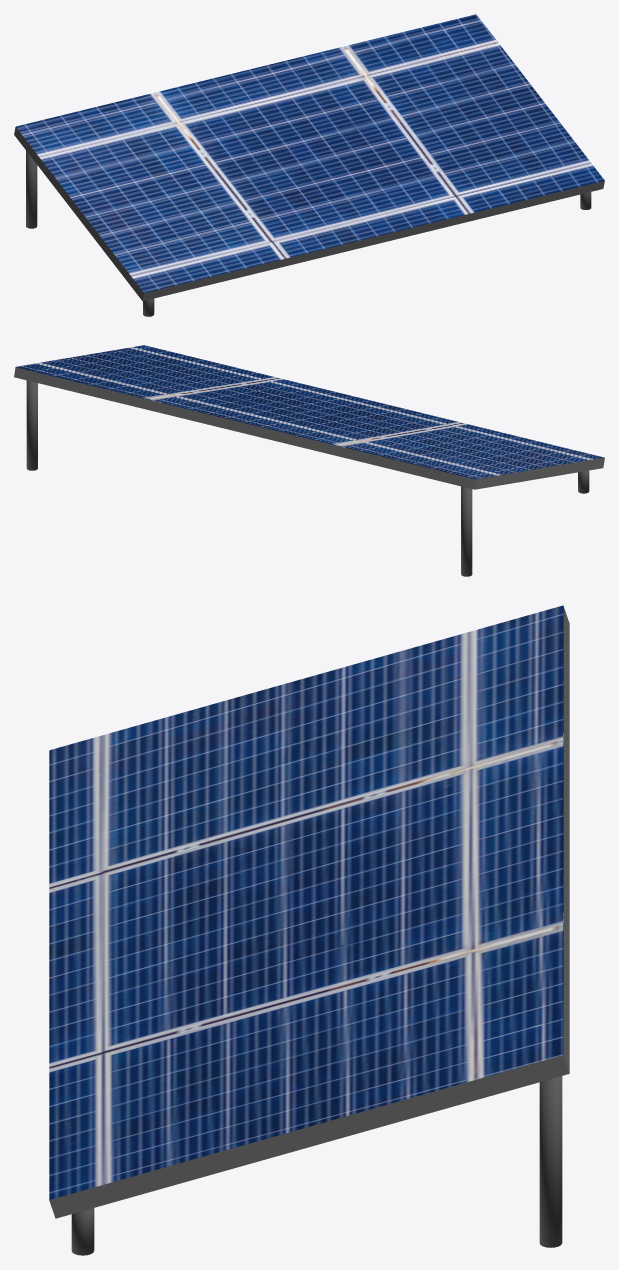
The model's file is solarpanel.fbx.
The picture shows the model from 3 angles, top to bottom: view 1: azimuth 30°, elevation 25°; view 2: azimuth 150°, elevation 25°; view 3: azimuth 270°, elevation 25°; orthographic projection. The views are drawn at different scales.
Parts seen in each view (by area): view 1: Cube, Cylinder.002; view 2: Cube, Cylinder.003, Cylinder.002; view 3: Cube, Cylinder.003, Cylinder.
Part boxes in pixels (x1=…): Cube: x1=14, y1=14, x2=604, y2=301; Cylinder.002: x1=26, y1=151, x2=37, y2=228; Cube: x1=14, y1=345, x2=604, y2=489; Cylinder.003: x1=26, y1=380, x2=37, y2=470; Cylinder.002: x1=461, y1=486, x2=472, y2=576; Cube: x1=49, y1=605, x2=569, y2=1218; Cylinder.003: x1=539, y1=1076, x2=562, y2=1247; Cylinder: x1=71, y1=1208, x2=94, y2=1255.
Size of the model in its own units: 165 by 35.19 by 80.55.
